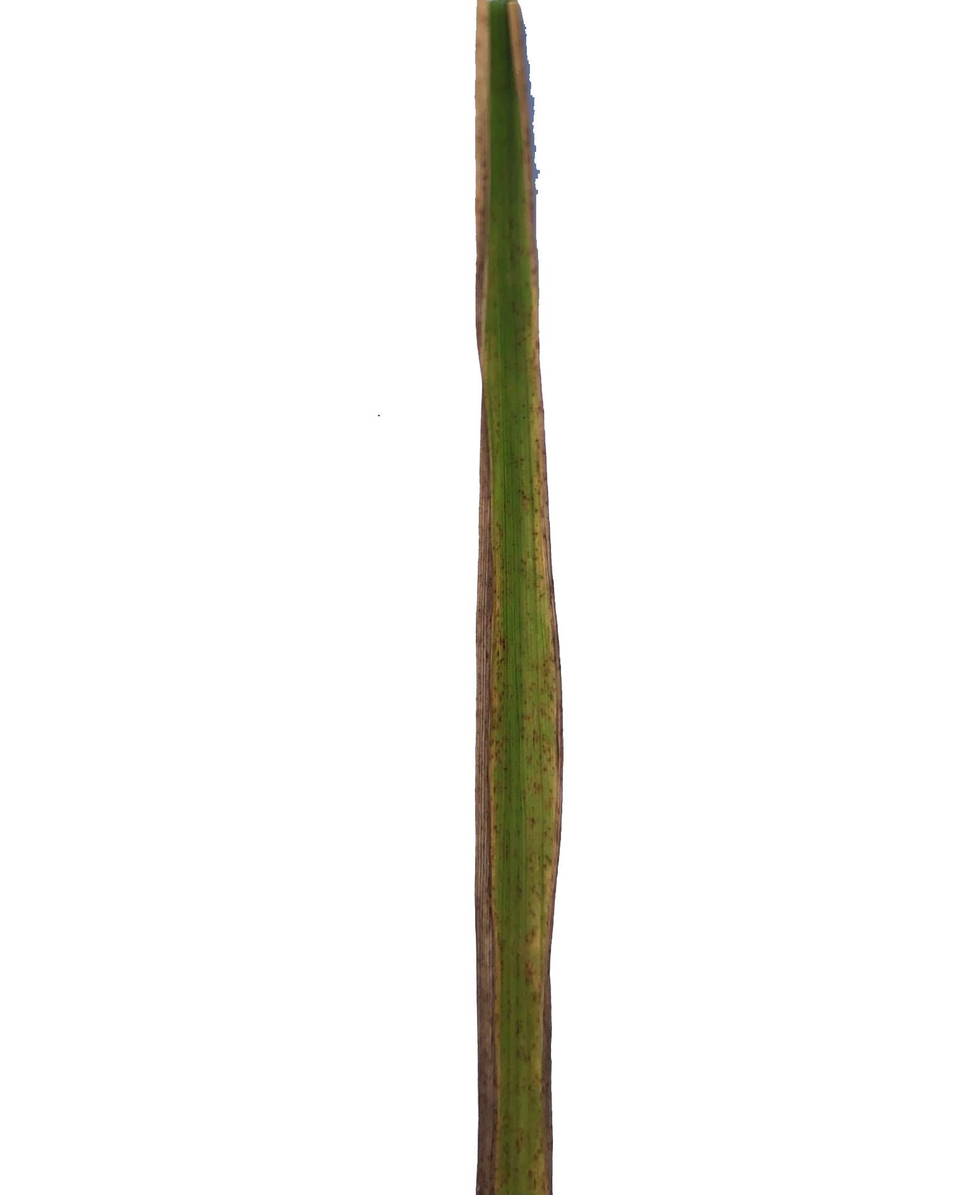Tungro: (476, 6, 563, 1192)
